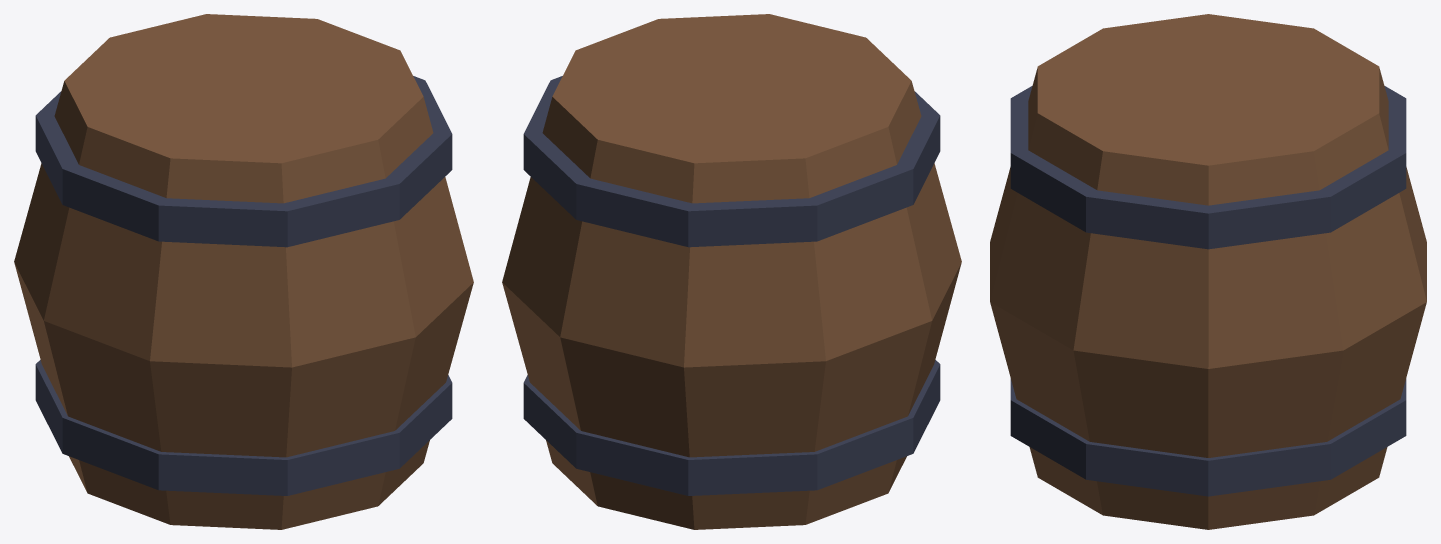
Rendered from Barrel.fbx.
3 renders of one model, left to right at view 1: azimuth 30°, elevation 25°; view 2: azimuth 150°, elevation 25°; view 3: azimuth 270°, elevation 25°, orthographic.
Parts seen in each view (by area): view 1: Barrel.005; view 2: Barrel.005; view 3: Barrel.005.
Part boxes in pixels (x1,y1,x2,y2): Barrel.005: (14, 14, 473, 529); Barrel.005: (502, 14, 961, 529); Barrel.005: (990, 14, 1426, 529).
Bounding box in the file's own units: 64 × 56 × 60.87.
